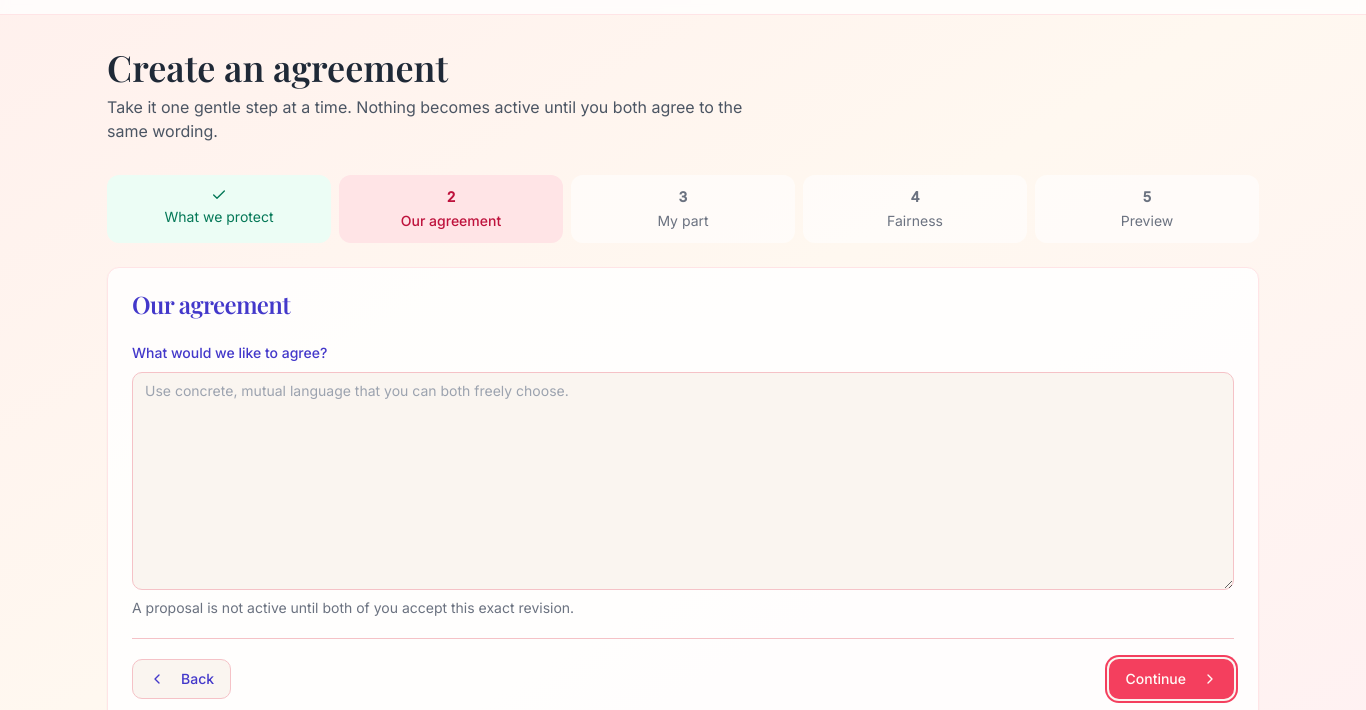
Test: AgreementEditorPage › guides the user through required content and explicit asymmetry
Earlier steps of the test are not shown.
Type "We answer direct questions honestly." into the text box labelled "What would we like to agree?". click: (683, 481)
box: [132, 372, 1234, 590]
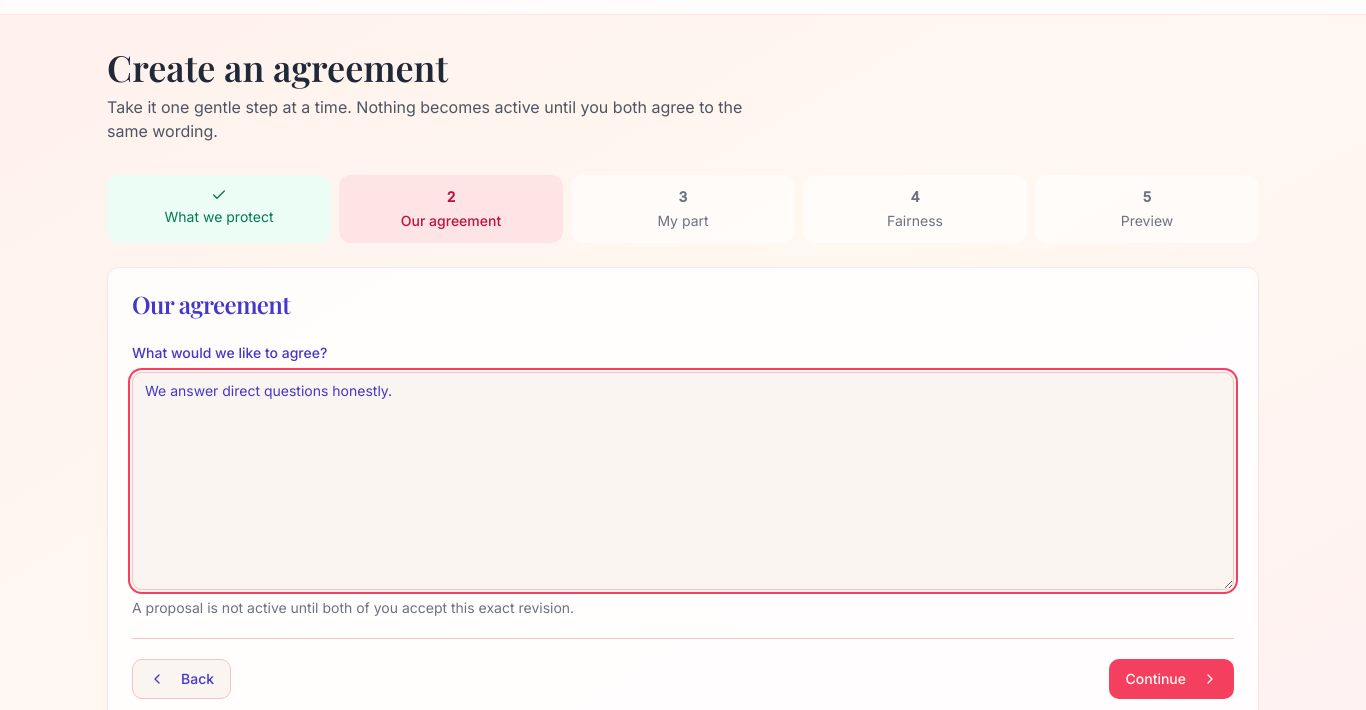
Click the button "Continue". click: (1172, 679)
box: [1110, 659, 1234, 699]
(page scrolled)
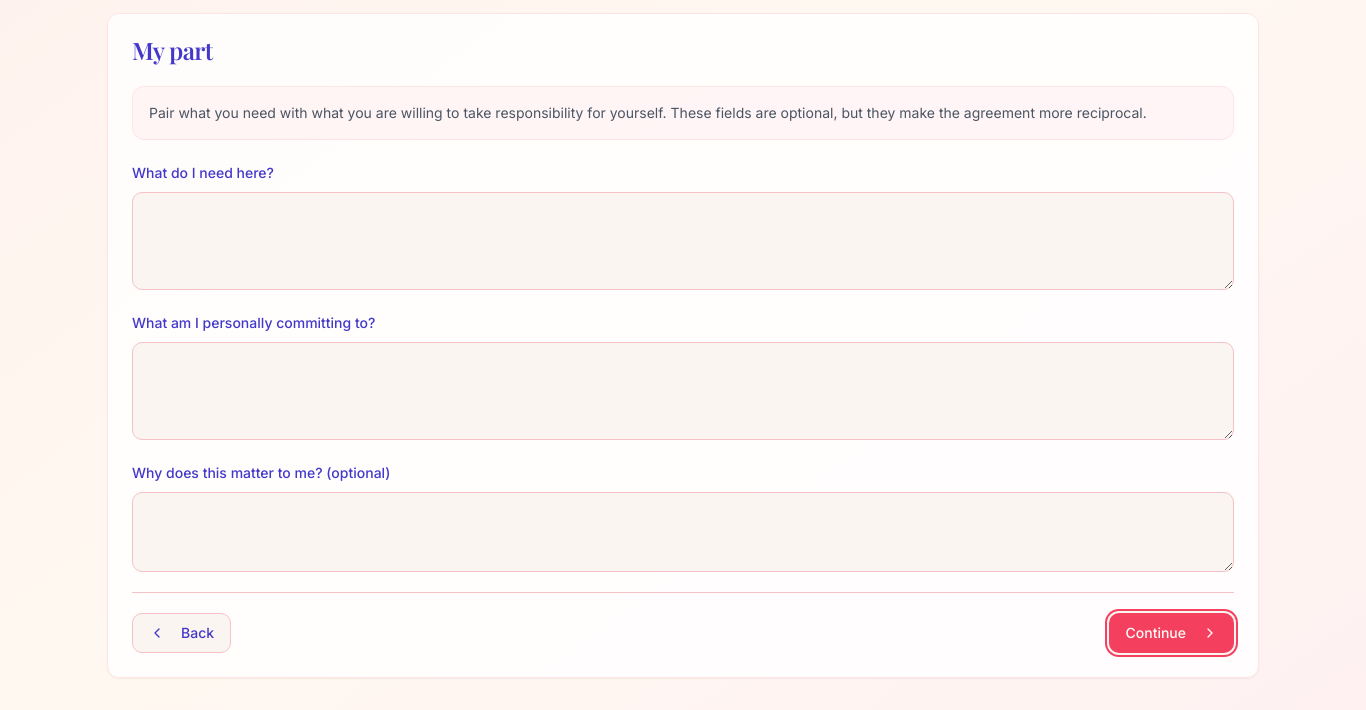
Click the button "Continue". click: (1172, 633)
box: [1110, 613, 1234, 653]
(page scrolled)
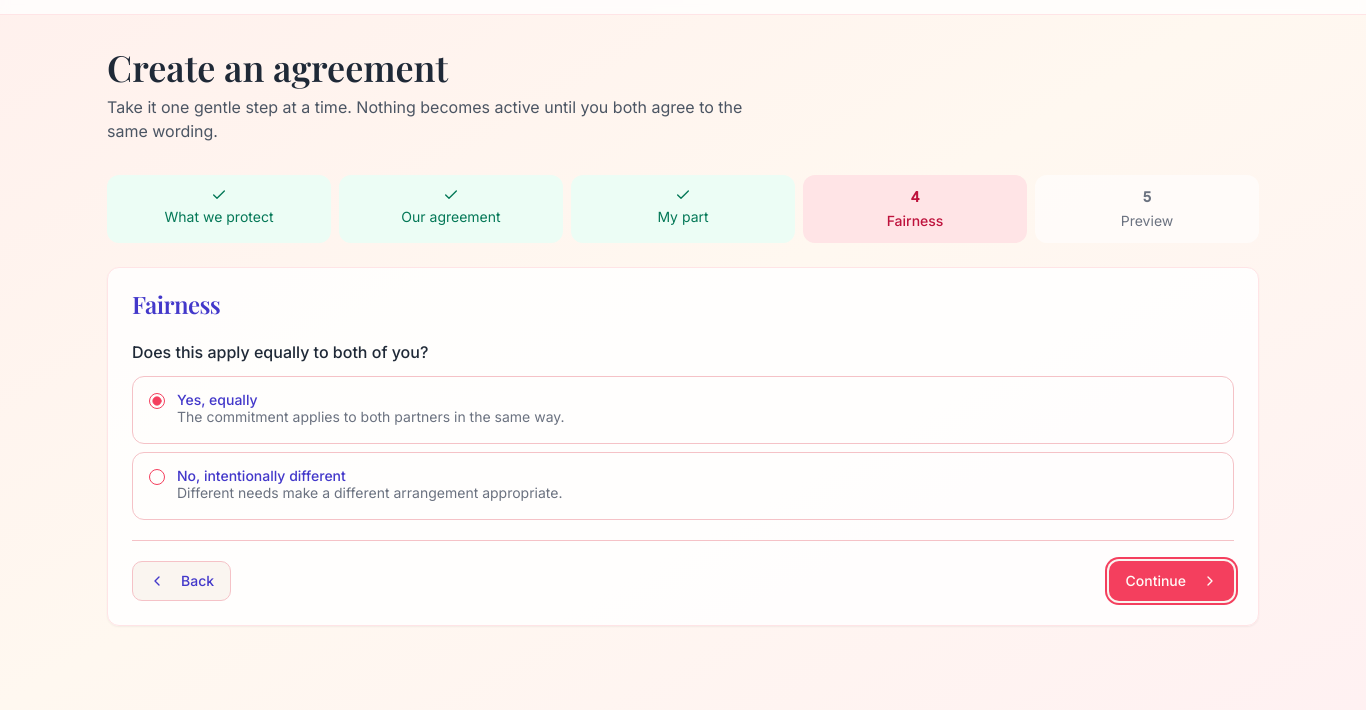
Click the radio button named "no, intentionally different" next to "No, intentionally different". click: (157, 477)
box: [149, 469, 165, 485]
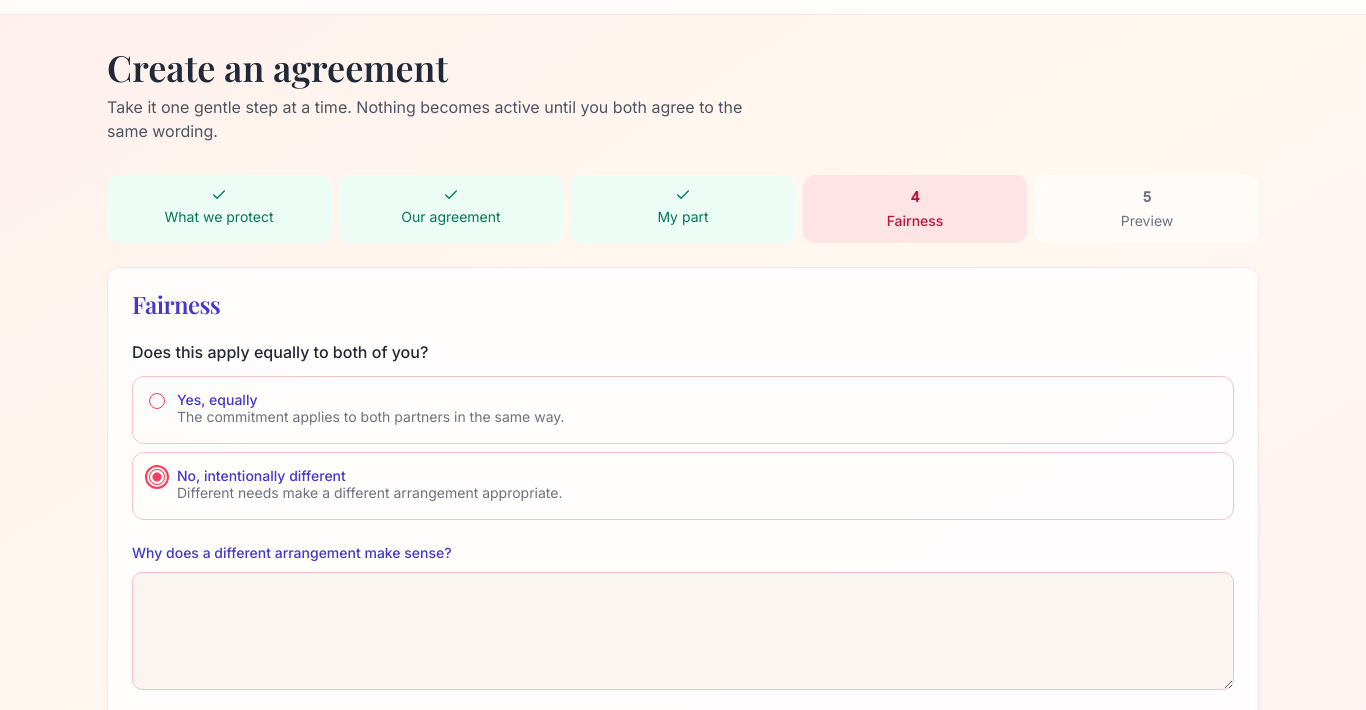
Type "Our working hours require different responsibilities." into the text box labelled "Why does a different arrangement make sense?". click: (683, 631)
box: [132, 572, 1234, 690]
(page scrolled)
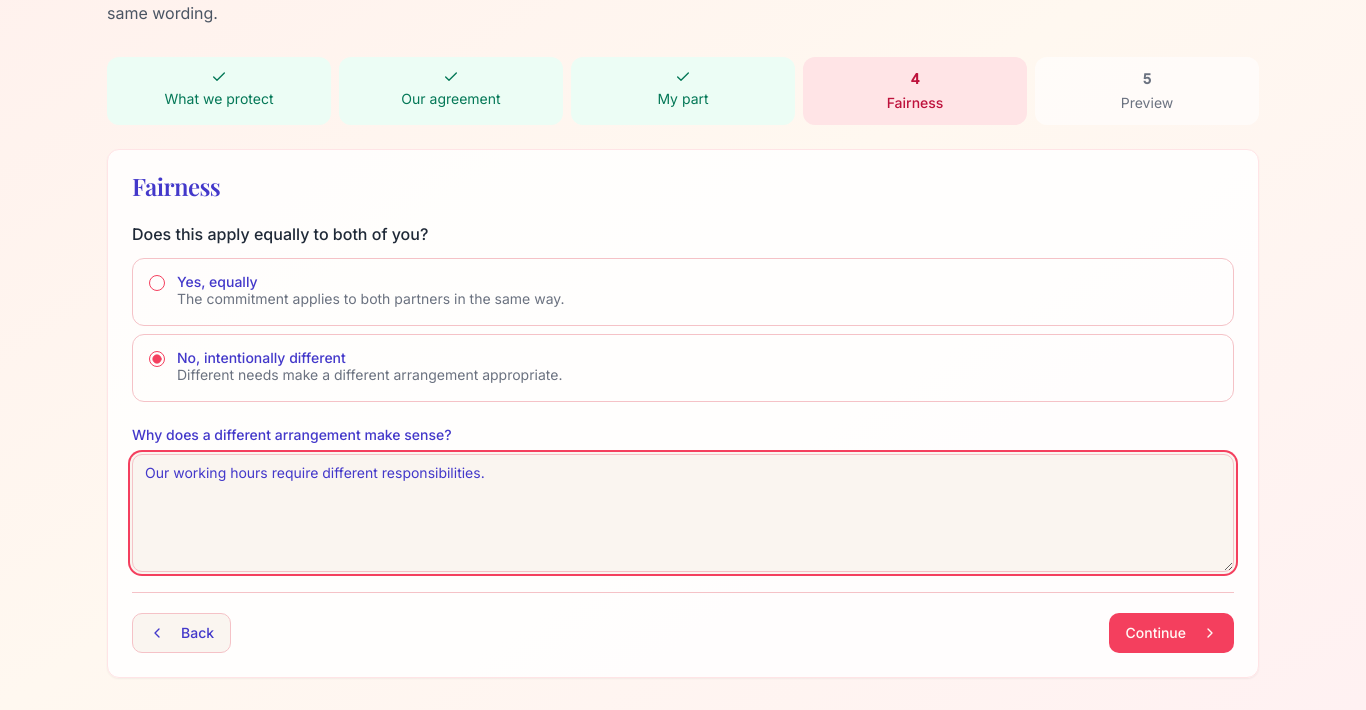
Click the button "Continue". click: (1172, 633)
box: [1110, 613, 1234, 653]
(page scrolled)
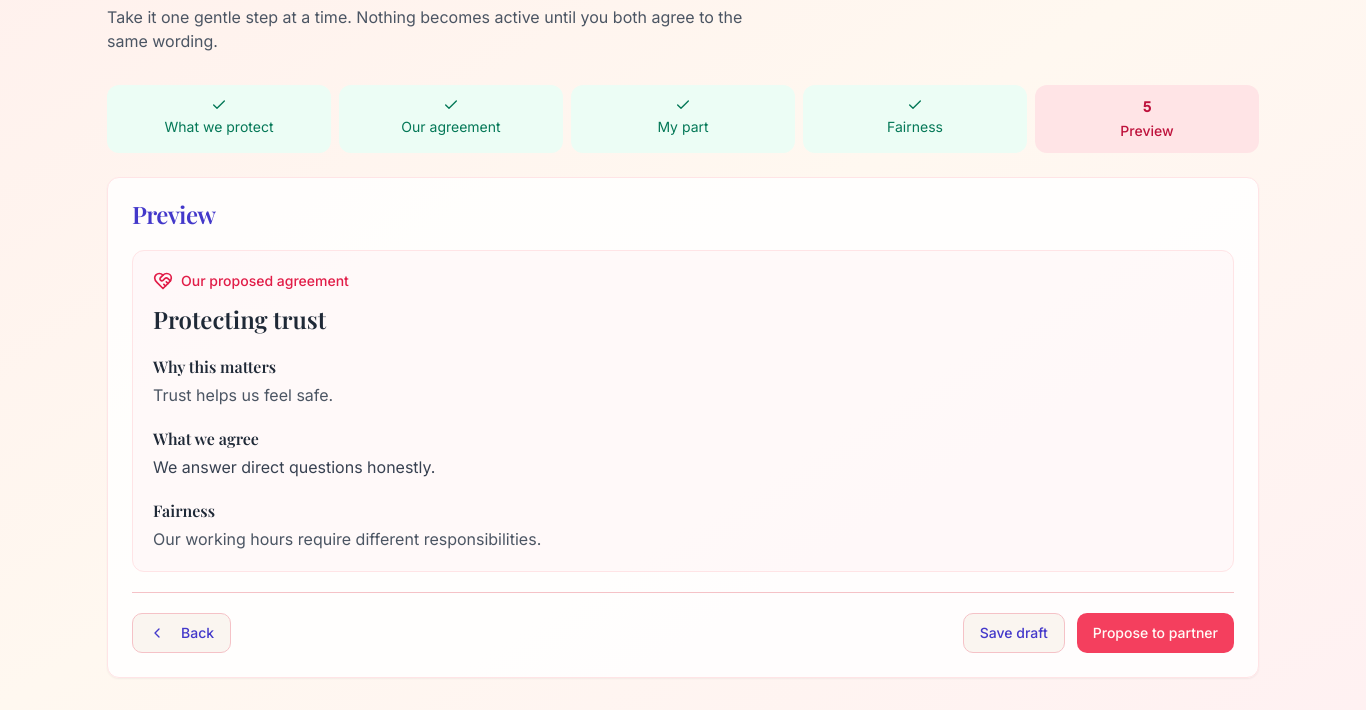
Expected: the text "Our working hours require different responsibilities." is shown, [153, 529, 541, 549]
